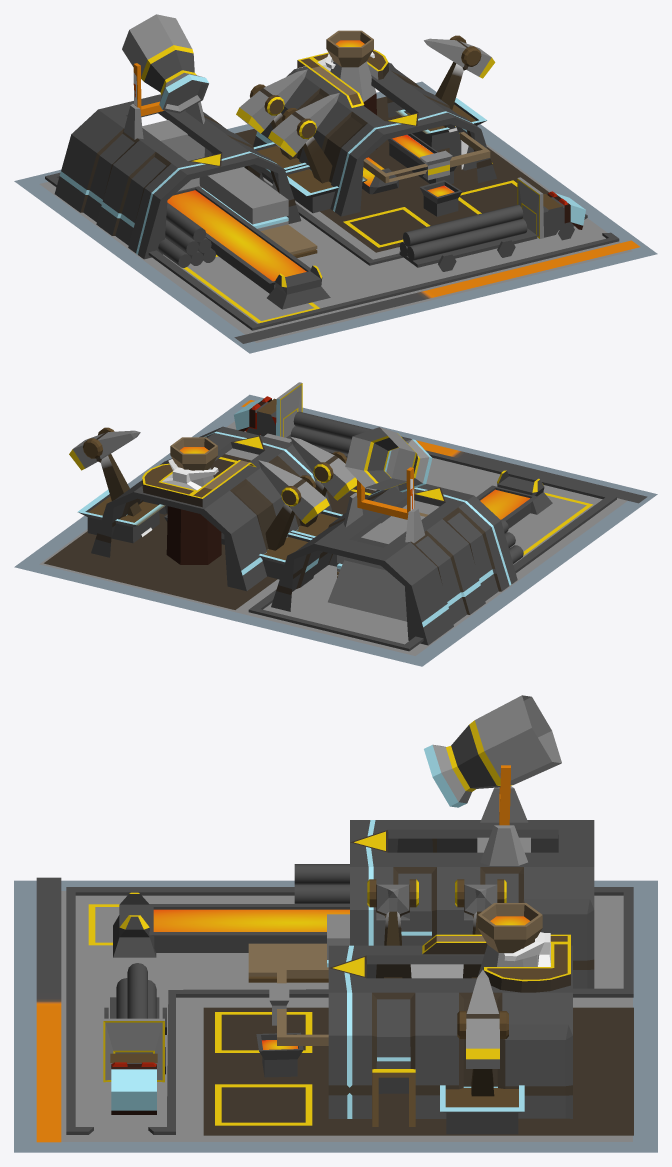
Rendered from metal_LV3.fbx.
3 views of the same model, one above another, from view 1: azimuth 30°, elevation 25°; view 2: azimuth 150°, elevation 25°; view 3: azimuth 270°, elevation 25° (orthographic). The views are drawn at different scales.
Visible parts, largest first — view 1: metal_level3; view 2: metal_level3; view 3: metal_level3.
Part boxes in pixels (x1=…): metal_level3: x1=14, y1=14, x2=657, y2=353; metal_level3: x1=14, y1=382, x2=657, y2=666; metal_level3: x1=14, y1=695, x2=657, y2=1152.
Bounding box in the file's own units: 162 × 75.45 × 161.
